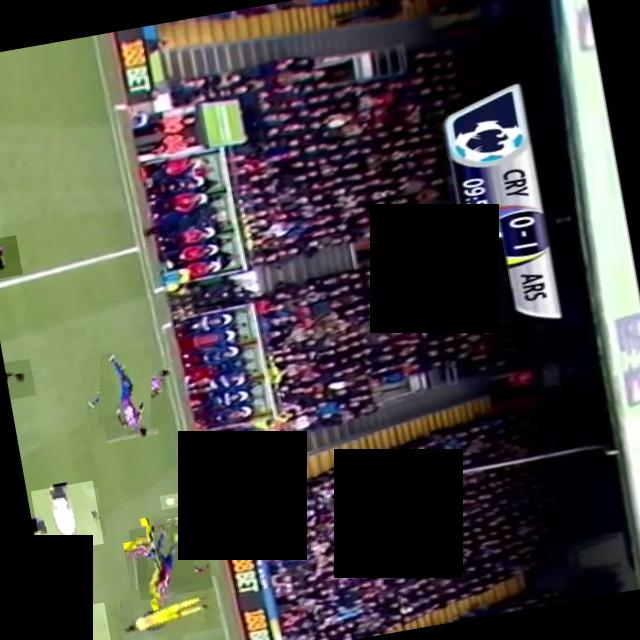ball: (158, 492, 186, 509)
referee: (29, 480, 102, 554)
soccer-player: (77, 344, 170, 438), (128, 516, 212, 600), (114, 579, 223, 640), (162, 500, 255, 547), (46, 602, 112, 640), (2, 358, 34, 399), (0, 235, 21, 280)
